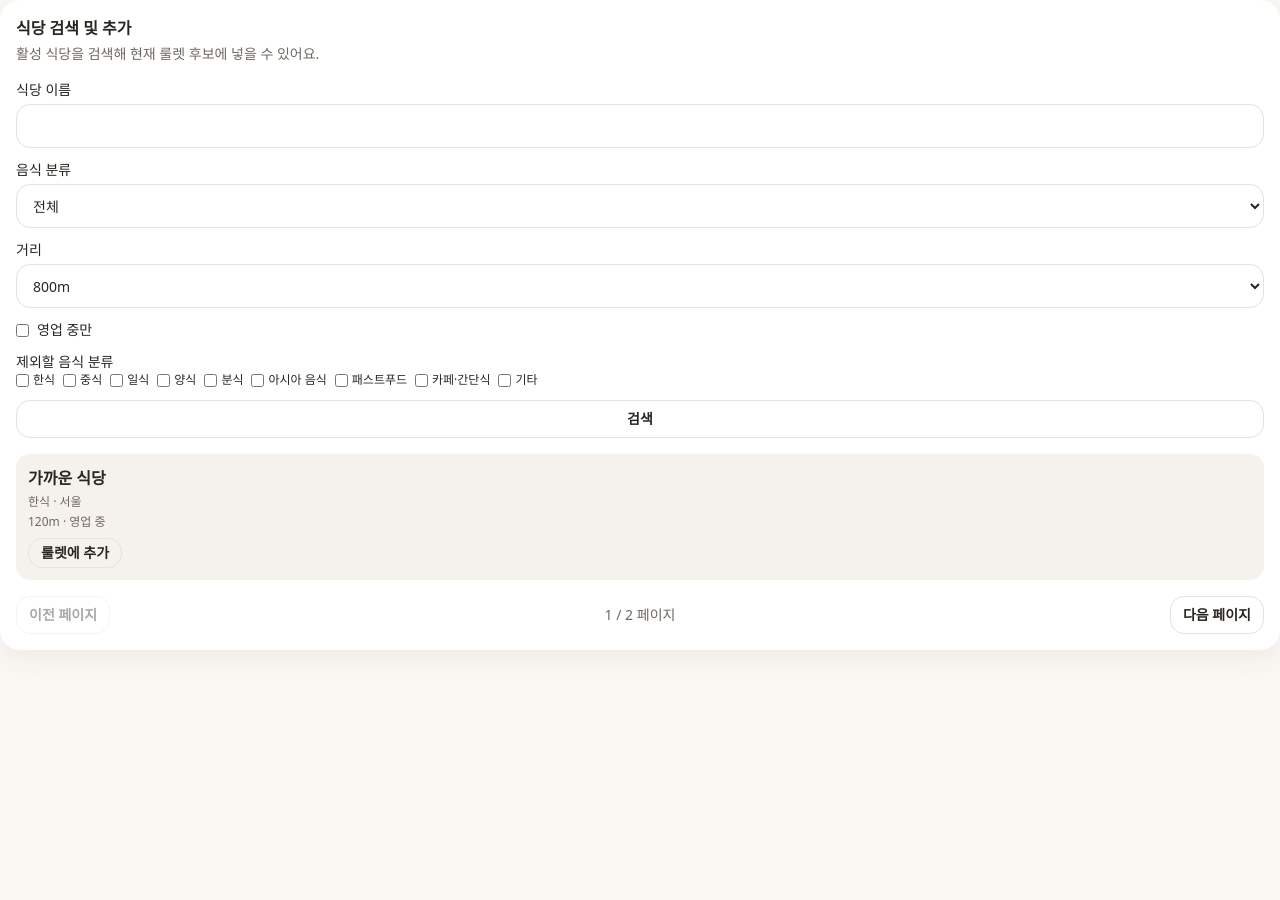
it: RouletteRestaurantSearch › loads the next page of matching restaurants
This screenshot has width=1280, height=900.
Expected: the text "가까운 식당" is shown, x1=28 y1=467 x2=106 y2=489
Click the button "다음 페이지" at (1217, 615), box x1=1170 y1=596 x2=1264 y2=634
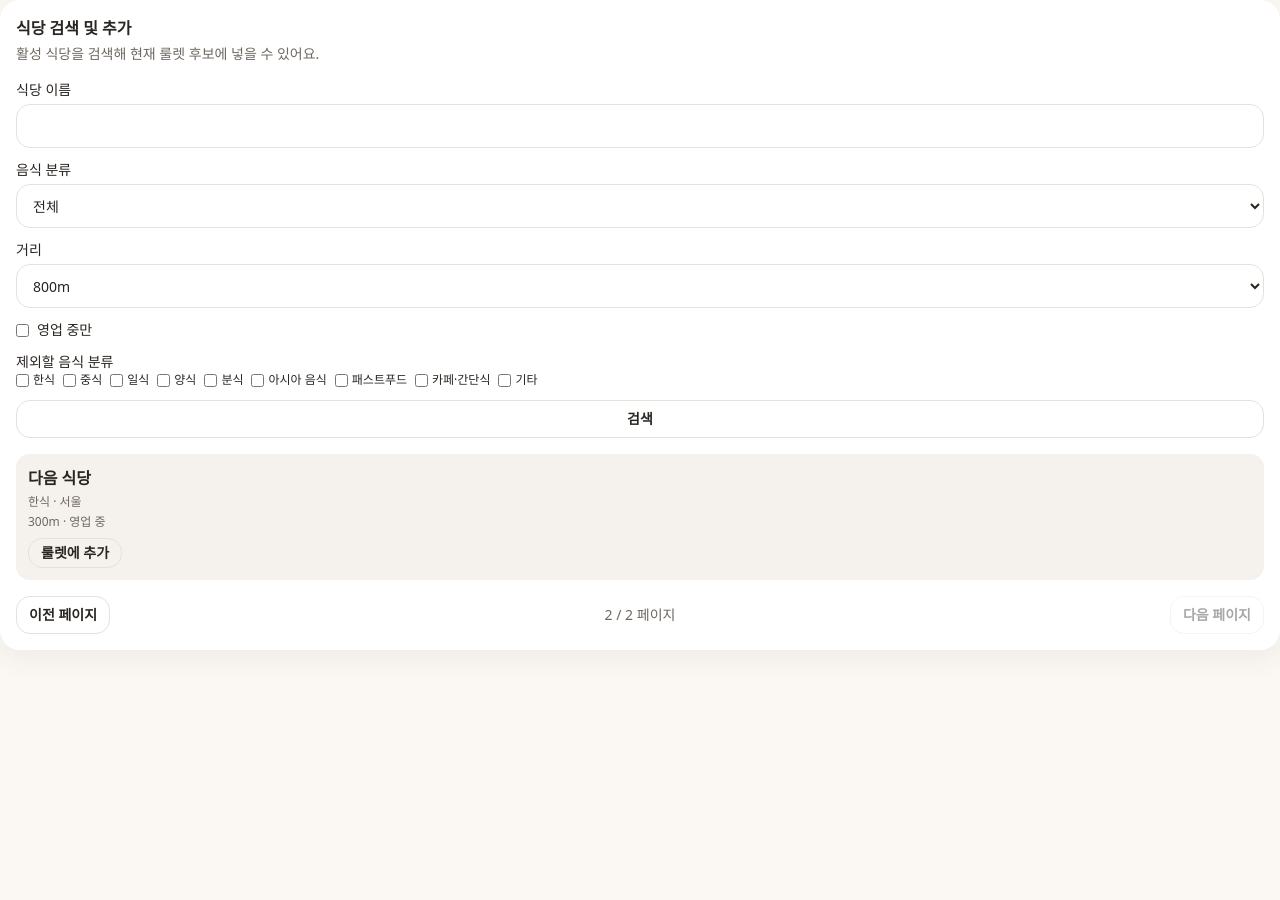
Now the text "다음 식당" is shown, box x1=28 y1=467 x2=91 y2=489
